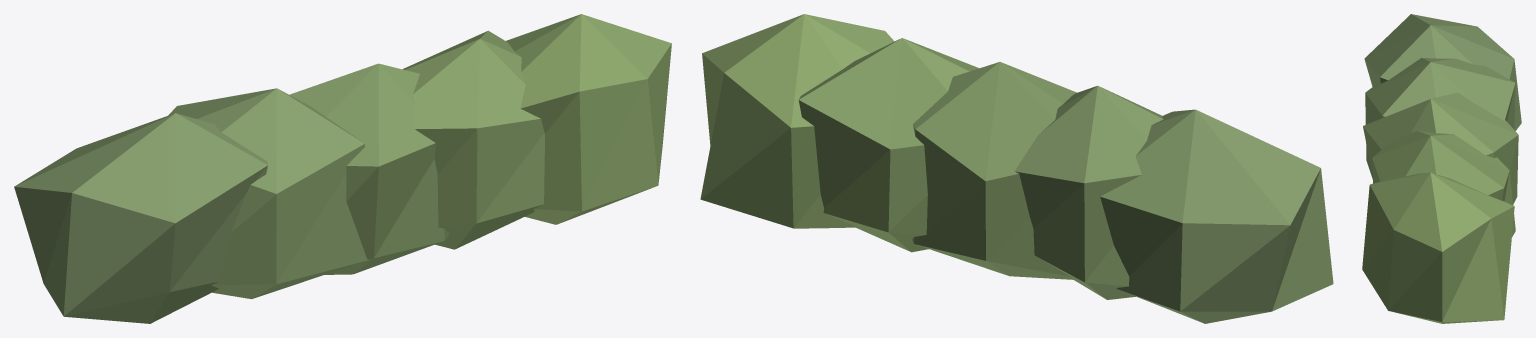
3 renders of one model, left to right at view 1: azimuth 30°, elevation 25°; view 2: azimuth 150°, elevation 25°; view 3: azimuth 270°, elevation 25°, orthographic. The views are drawn at different scales.
Bounding box in the file's own units: 4.69 × 1.5 × 1.37.
